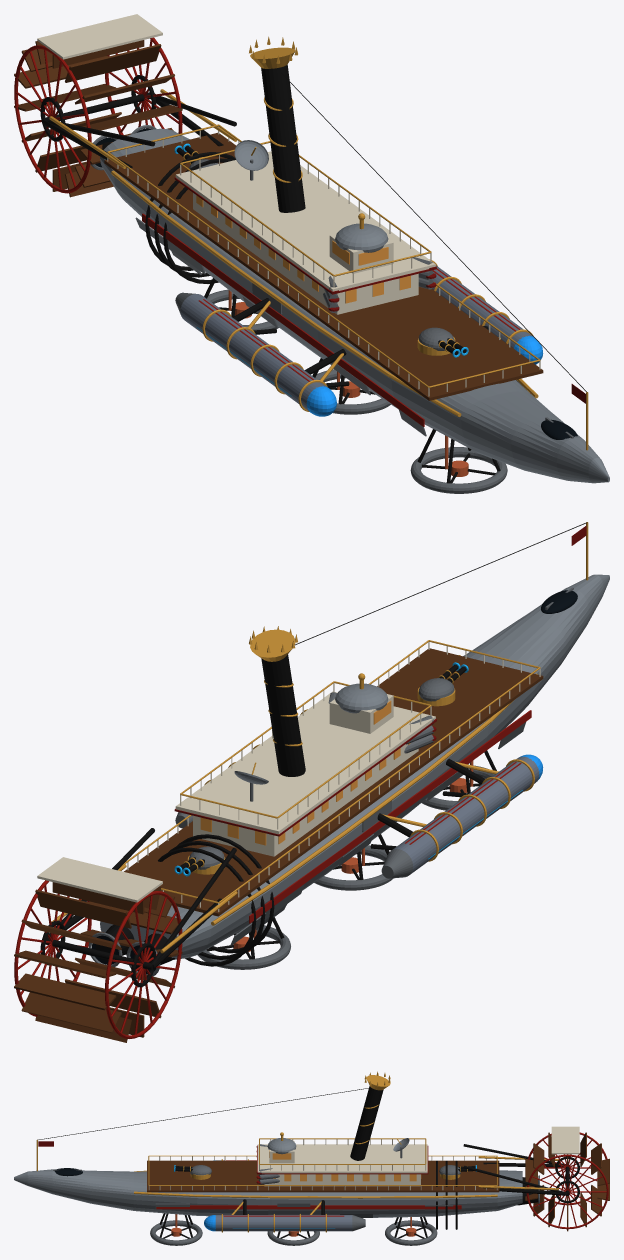
Rendered from destroyer.obj.
The picture shows the model from 3 angles, top to bottom: view 1: azimuth 30°, elevation 25°; view 2: azimuth 150°, elevation 25°; view 3: azimuth 270°, elevation 25°; orthographic projection. The views are drawn at different scales.
Visible parts, largest first — view 1: destroyer; view 2: destroyer; view 3: destroyer.
Part boxes in pixels (bbox=[...]): destroyer: bbox=[14, 14, 609, 493]; destroyer: bbox=[14, 522, 609, 1042]; destroyer: bbox=[14, 1071, 609, 1245].
Bounding box in the file's own units: 137 × 162 × 550.
Materials: 1 (1 with a texture image).
